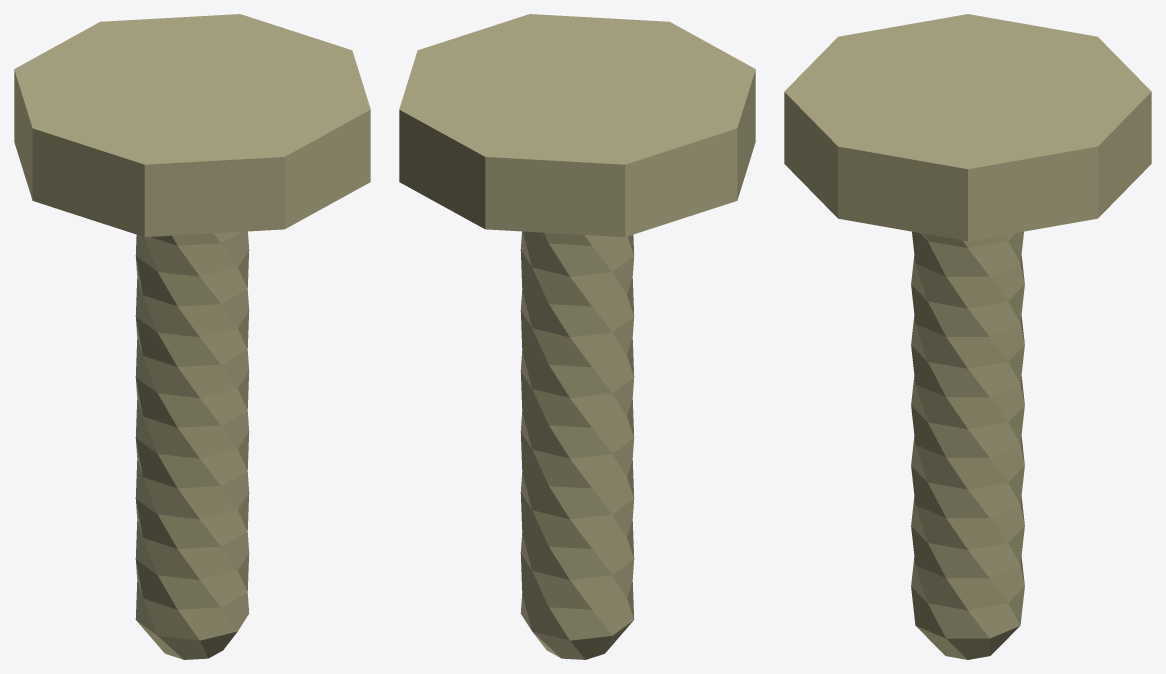
File: Bolt.glb
The picture shows the model from 3 angles, left to right: view 1: azimuth 30°, elevation 25°; view 2: azimuth 150°, elevation 25°; view 3: azimuth 270°, elevation 25°; orthographic projection.
Parts seen in each view (by area): view 1: Screw; view 2: Screw; view 3: Screw.
Boxes of the visible parts, <box> form: Screw: <box>14,14,370,659</box>; Screw: <box>399,14,755,659</box>; Screw: <box>784,14,1151,659</box>.
Size of the model in its own units: 0.6 by 1 by 0.6.
